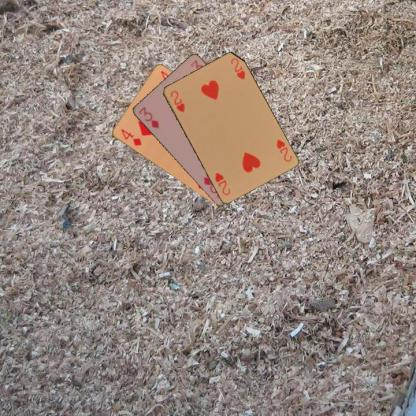2h: (273, 136, 293, 163), (168, 88, 186, 114)
3d: (136, 104, 160, 129)
4d: (118, 126, 143, 147)
